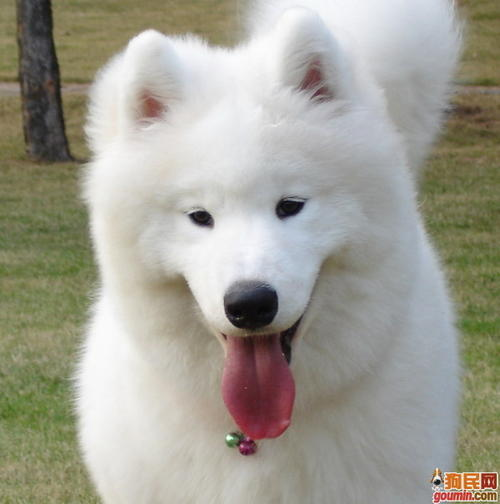dog: (71, 12, 430, 448)
